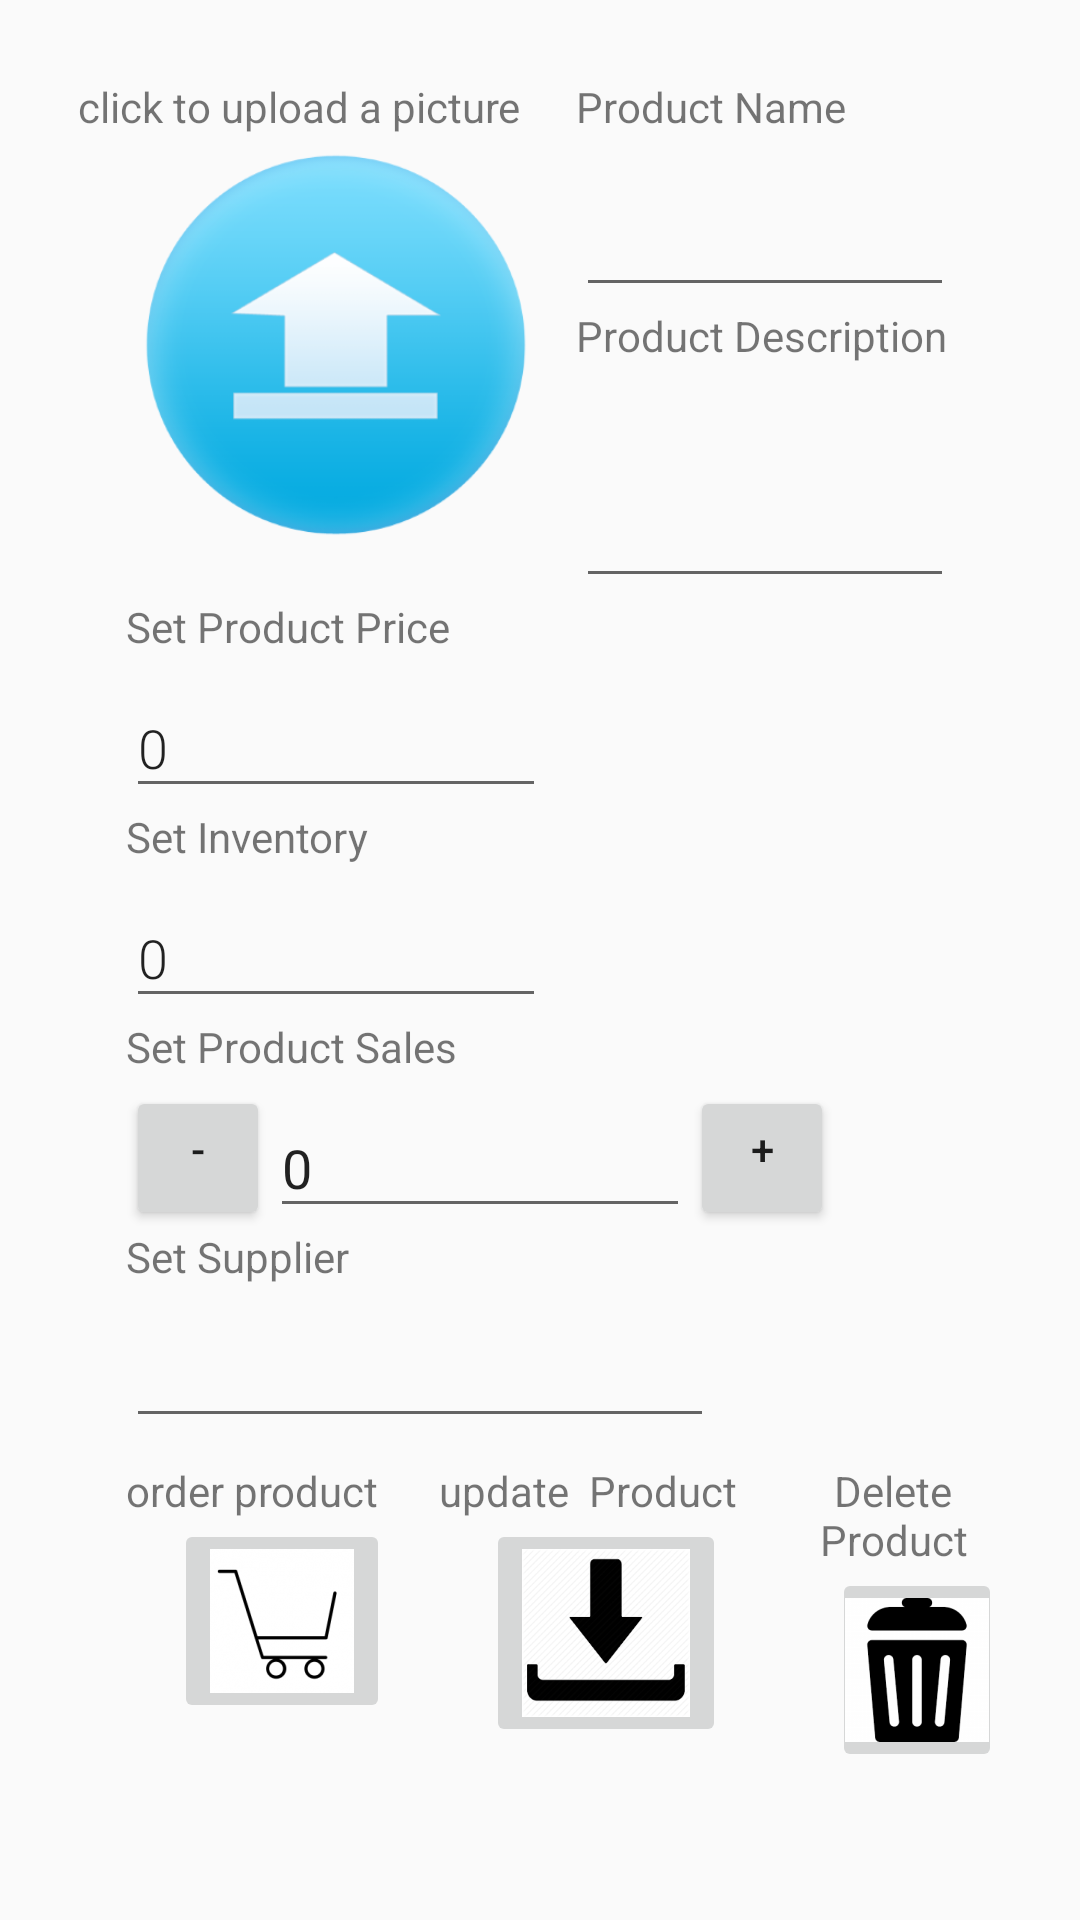

Icon click points for this 1080w x 1920h phone screenshot, format (x,y):
emptycart: (282,1621)
save: (606,1633)
